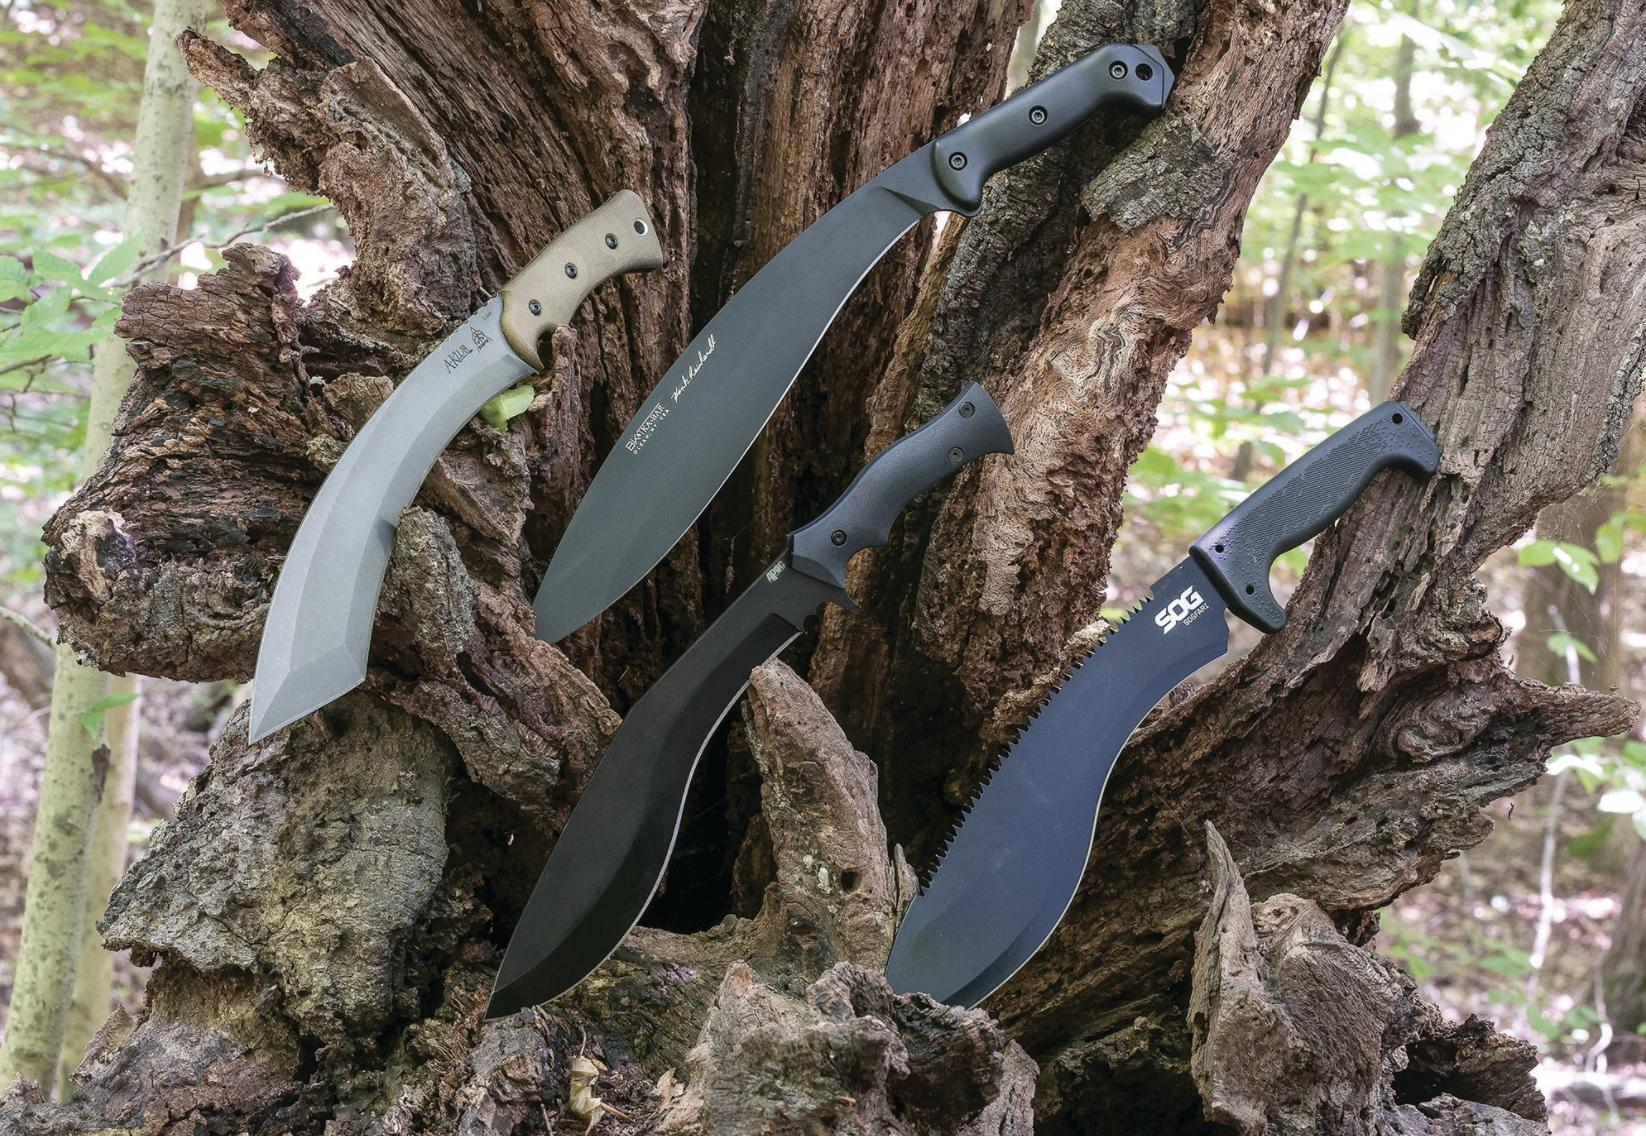facao: (535, 43, 1173, 641), (886, 402, 1438, 1006), (489, 383, 1012, 1016), (253, 190, 662, 739)
